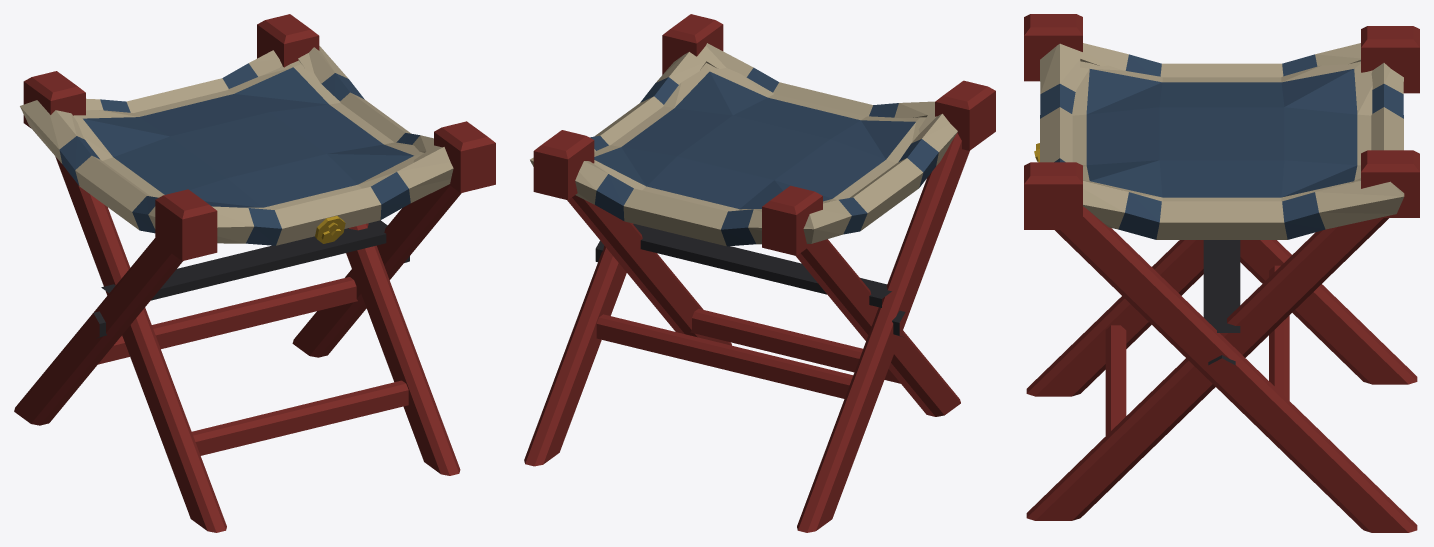
Rendered from commander-s-camp-stool-d7fa4c.glb.
3 renders of one model, left to right at view 1: azimuth 30°, elevation 25°; view 2: azimuth 150°, elevation 25°; view 3: azimuth 270°, elevation 25°, orthographic. The views are drawn at different scales.
Parts seen in each view (by area): view 1: frame, seat-hide; view 2: frame, seat-hide; view 3: frame, seat-hide.
Part boxes in pixels (<box>): frame: <box>14,14,495,532</box>; seat-hide: <box>20,46,453,245</box>; frame: <box>524,14,995,532</box>; seat-hide: <box>530,43,957,246</box>; frame: <box>1024,14,1419,532</box>; seat-hide: <box>1034,43,1404,239</box>.
Size of the model in its own units: 0.5 by 0.5 by 0.5.
